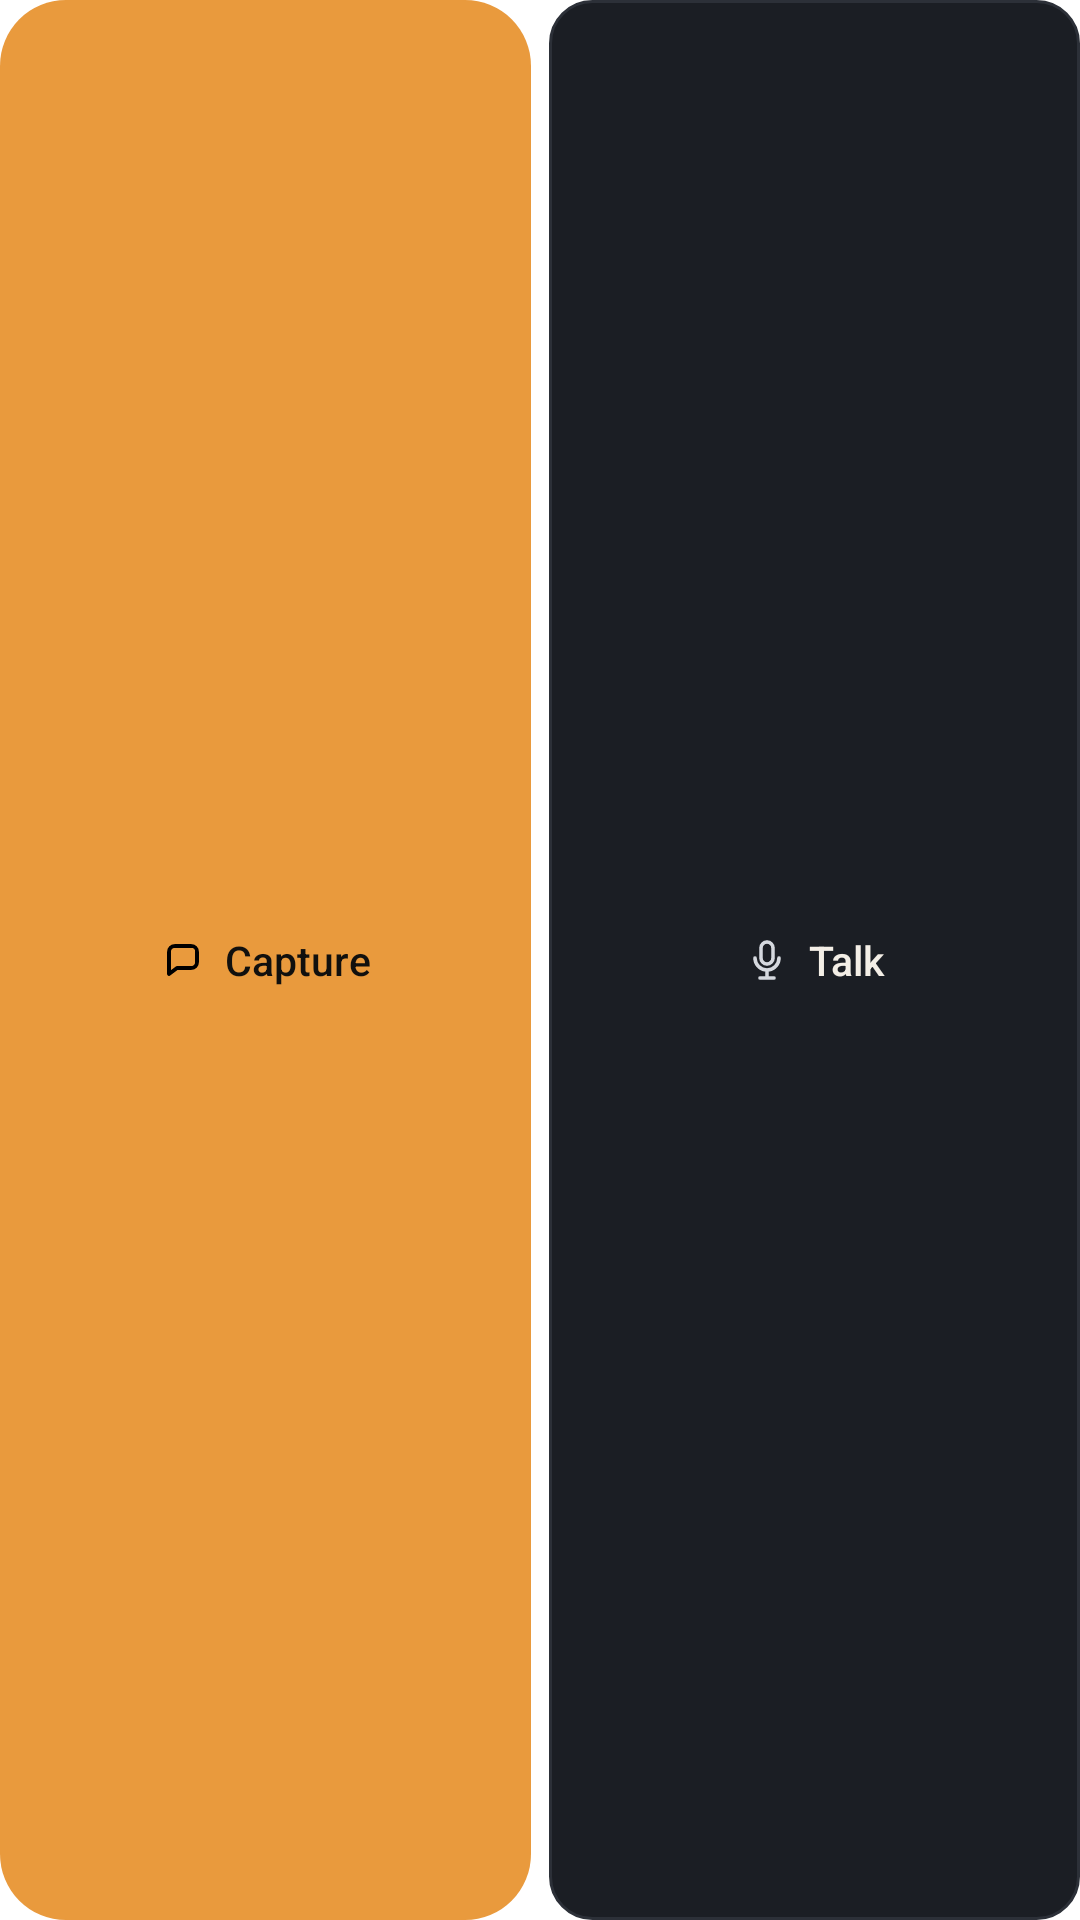

Named icons in this screenshot (1080 x 1920) and their bounding boxes, [x1, y1, x2, y2]:
widget chat: [167, 944, 199, 976]
widget mic: [753, 940, 781, 980]
